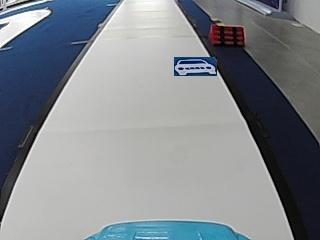bomb: (207, 24, 245, 45)
